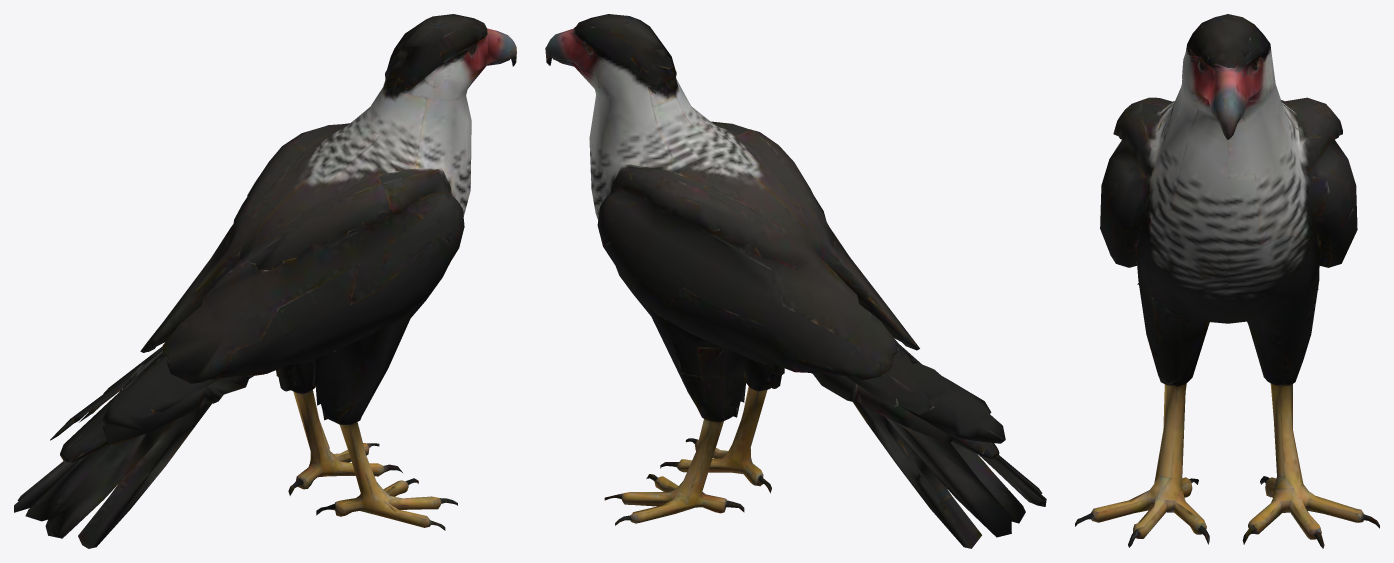
File: carcara.glb
3 renders of one model, left to right at view 1: azimuth 30°, elevation 25°; view 2: azimuth 150°, elevation 25°; view 3: azimuth 270°, elevation 25°, orthographic. The views are drawn at different scales.
Visible parts, largest first — view 1: Striped Breast Caracara; view 2: Striped Breast Caracara; view 3: Striped Breast Caracara.
Part boxes in pixels (x1=…): Striped Breast Caracara: x1=14, y1=14, x2=516, y2=548; Striped Breast Caracara: x1=545, y1=14, x2=1046, y2=548; Striped Breast Caracara: x1=1075, y1=14, x2=1379, y2=548.
Size of the model in its own units: 0.998 by 0.8906 by 0.4512.
Materials: 1 (1 with a texture image).
